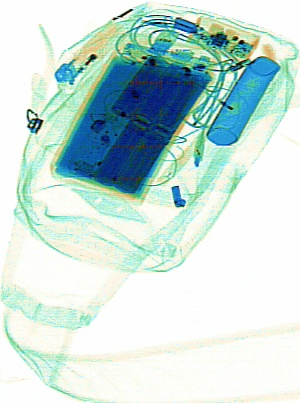lighter: (54, 21, 125, 87)
powerbank: (66, 40, 213, 199)
